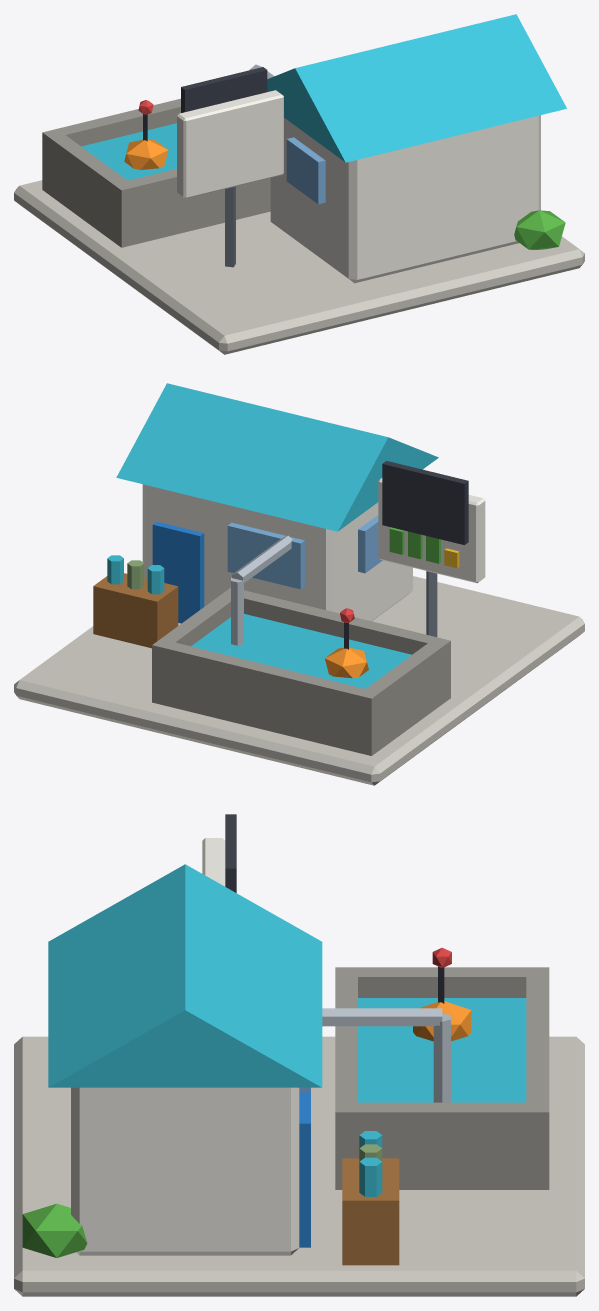
The model's file is water_quality_monitor.glb.
3 views of the same model, one above another, from view 1: azimuth 30°, elevation 25°; view 2: azimuth 150°, elevation 25°; view 3: azimuth 270°, elevation 25° (orthographic). The views are drawn at different scales.
Parts seen in each view (by area): view 1: corpo; view 2: corpo; view 3: corpo.
Boxes of the visible parts, x1,y1,x2,y2 form: corpo: (14, 14, 584, 354); corpo: (14, 383, 584, 785); corpo: (14, 814, 584, 1296).
Size of the model in its own units: 2 by 1.1 by 2.
